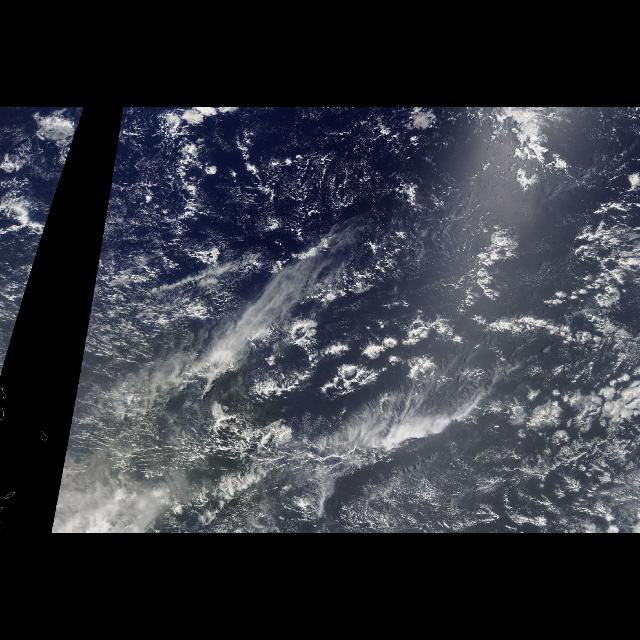Flower: (490, 372, 640, 463)
